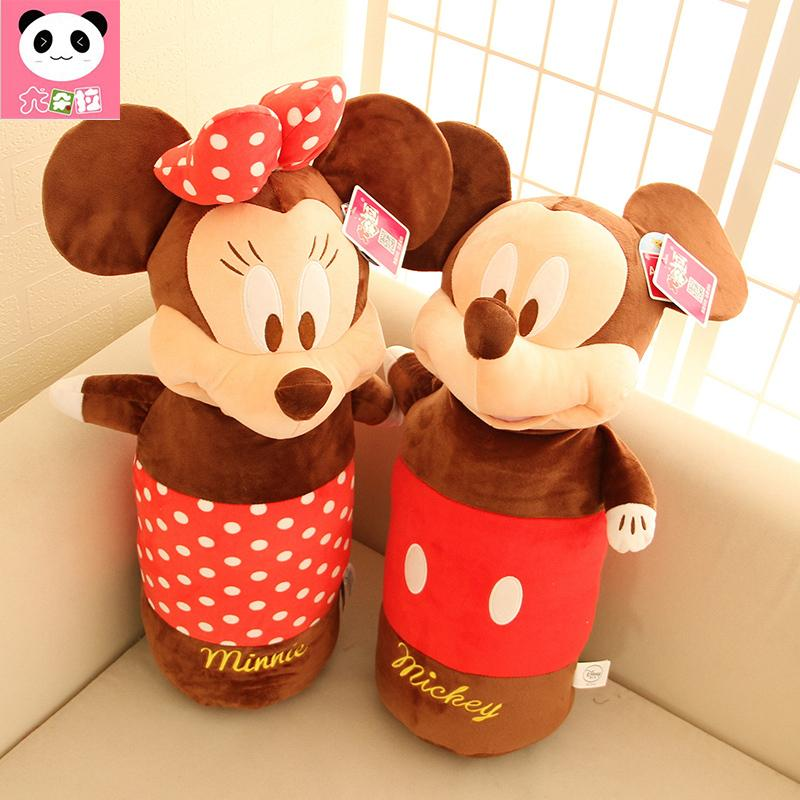Mickey: (398, 123, 752, 440)
